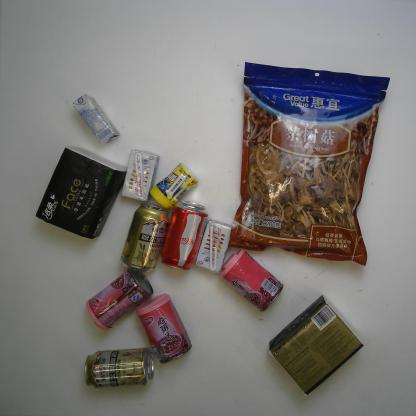Alcohol: (119, 202, 170, 274), (83, 346, 156, 390)
Canned Food: (217, 248, 285, 313), (84, 268, 154, 331), (135, 292, 194, 365)
Dried Food: (227, 60, 392, 267)
Drink: (160, 198, 210, 272)
Gum: (150, 160, 200, 212)
Milk: (72, 92, 122, 147), (120, 148, 160, 203), (194, 218, 232, 274)
Tissue: (268, 293, 365, 397), (34, 145, 128, 240)
